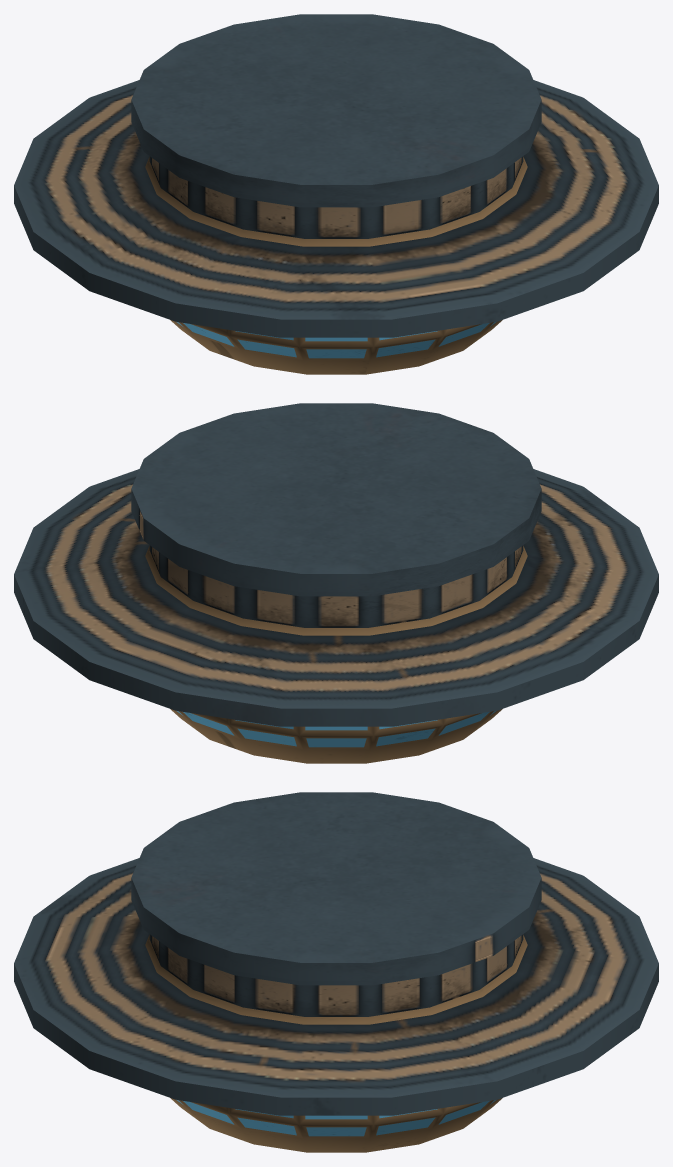
File: Ceiling Light 2.fbx
The picture shows the model from 3 angles, top to bottom: view 1: azimuth 30°, elevation 25°; view 2: azimuth 150°, elevation 25°; view 3: azimuth 270°, elevation 25°; orthographic projection.
Parts seen in each view (by area): view 1: Cylinder; view 2: Cylinder; view 3: Cylinder.
Boxes of the visible parts, box(x1,y1,x2,y2) form: Cylinder: box(14, 14, 658, 374); Cylinder: box(14, 403, 658, 763); Cylinder: box(14, 792, 658, 1152).
Size of the model in its own units: 80.59 by 35.63 by 81.84.
